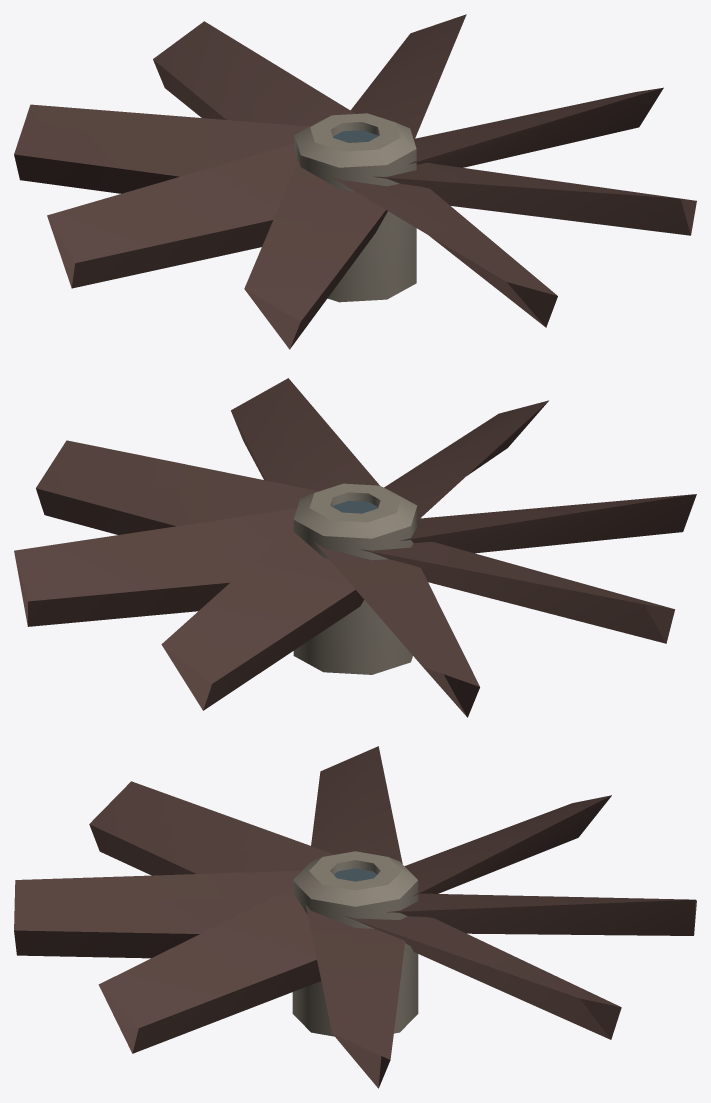
The model's file is TFan_C.glb.
The picture shows the model from 3 angles, top to bottom: view 1: azimuth 30°, elevation 25°; view 2: azimuth 150°, elevation 25°; view 3: azimuth 270°, elevation 25°; orthographic projection. The views are drawn at different scales.
Parts seen in each view (by area): view 1: TFan_C; view 2: TFan_C; view 3: TFan_C.
Boxes of the visible parts, x1=… form: TFan_C: x1=14, y1=14, x2=696, y2=349; TFan_C: x1=14, y1=378, x2=696, y2=717; TFan_C: x1=14, y1=746, x2=696, y2=1088.
Size of the model in its own units: 0.8698 by 0.2008 by 0.8698.
Materials: 1 (1 with a texture image).
